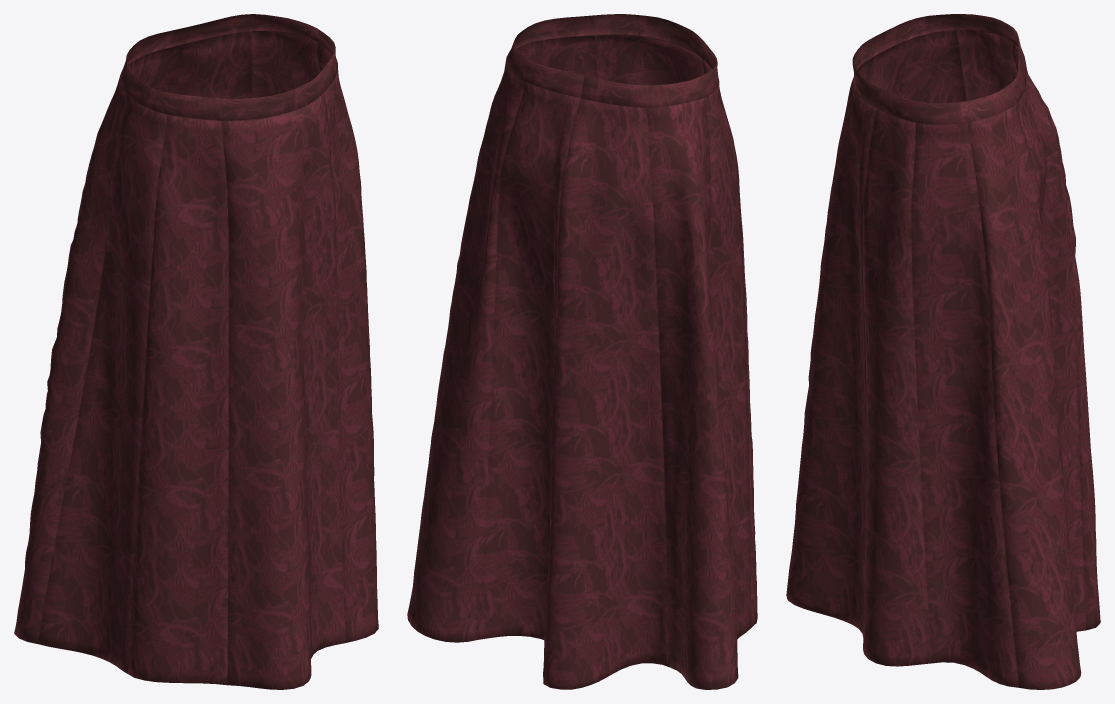
Rendered from 1871_skirt_gurmyzhskaya.glb.
The picture shows the model from 3 angles, left to right: view 1: azimuth 30°, elevation 25°; view 2: azimuth 150°, elevation 25°; view 3: azimuth 270°, elevation 25°; orthographic projection. The views are drawn at different scales.
Parts seen in each view (by area): view 1: 18_Skirt; view 2: 18_Skirt; view 3: 18_Skirt.
Part boxes in pixels (box(x1,y1,x2,y2)): 18_Skirt: box(14, 14, 378, 689); 18_Skirt: box(407, 14, 757, 689); 18_Skirt: box(786, 14, 1100, 689).
Size of the model in its own units: 0.6244 by 1.08 by 0.5351.
1 material, 1 textured.
